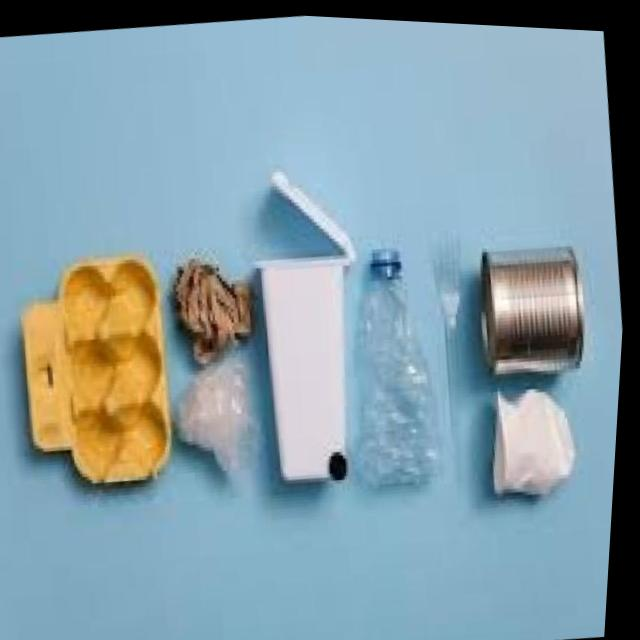clothes: (466, 215, 616, 381)
leaf: (234, 152, 385, 503), (329, 219, 461, 512), (423, 220, 503, 505), (171, 346, 274, 509), (479, 370, 594, 497)
trash: (0, 238, 188, 509), (163, 234, 266, 359)
